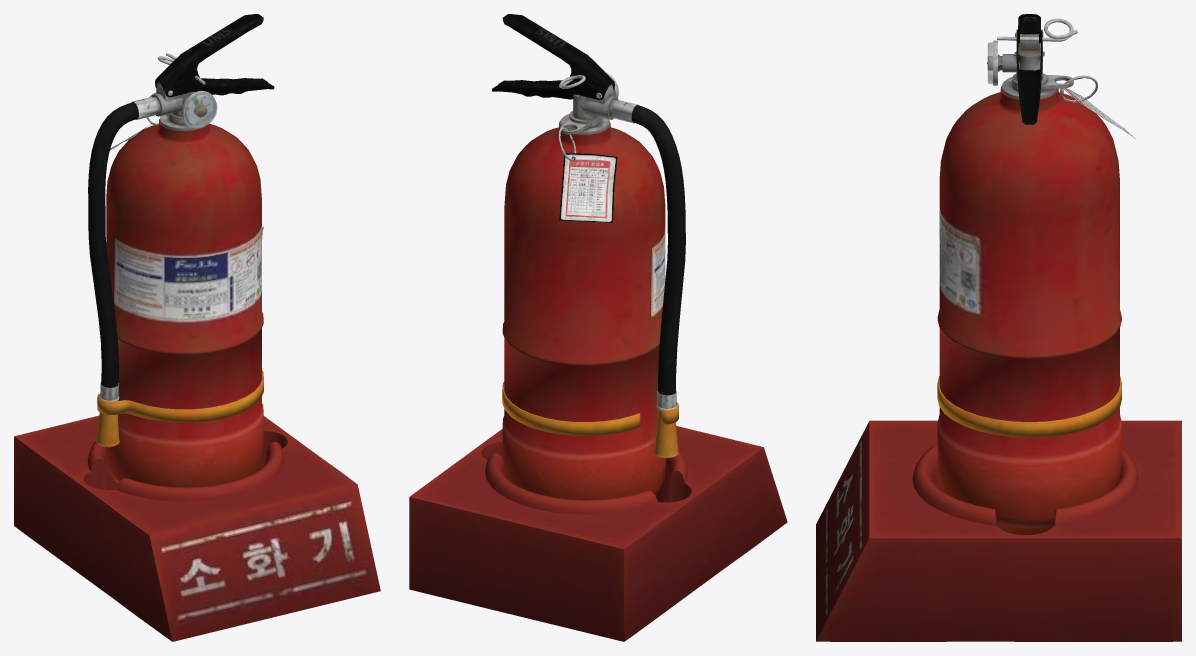
The model's file is korean_fire_extinguisher_01.glb.
3 views of the same model, side by side, from view 1: azimuth 30°, elevation 25°; view 2: azimuth 150°, elevation 25°; view 3: azimuth 270°, elevation 25° (orthographic). The views are drawn at different scales.
Visible parts, largest first — view 1: korean_fire_extinguisher_01; view 2: korean_fire_extinguisher_01; view 3: korean_fire_extinguisher_01.
Boxes of the visible parts, x1=… form: korean_fire_extinguisher_01: x1=14, y1=14, x2=380, y2=641; korean_fire_extinguisher_01: x1=409, y1=14, x2=787, y2=641; korean_fire_extinguisher_01: x1=816, y1=14, x2=1181, y2=641.
Size of the model in its own units: 0.28 by 0.6593 by 0.3674.
Materials: 3 (3 with a texture image).
